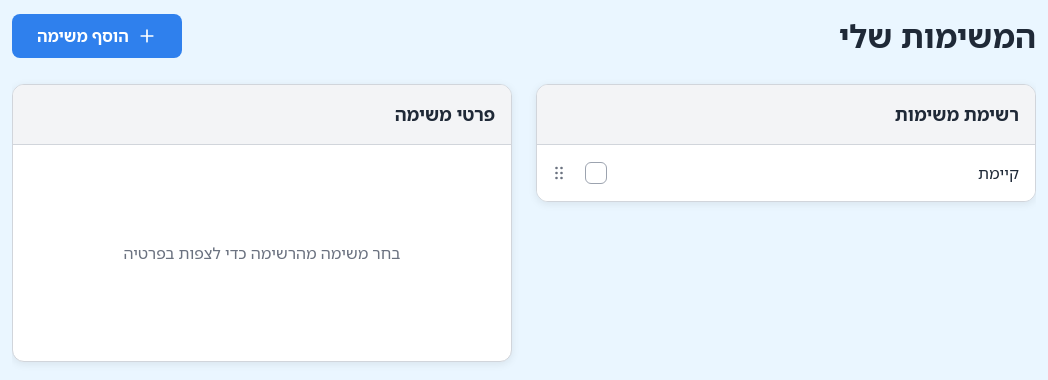
Test: HomePage – task status › a network failure restores the value with a connection message
Click the checkbox named "סימון השלמה: קיימת".
click(596, 173)  # box [585, 162, 607, 184]
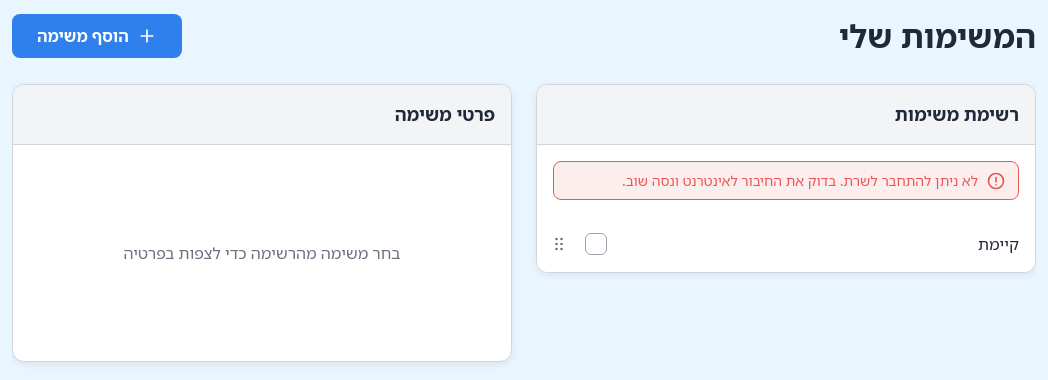
Expected: the checkbox named "סימון השלמה: קיימת" is not checked, [585, 233, 607, 255]
Result: the text "לא ניתן להתחבר לשרת. בדוק את החיבור לאינטרנט ונסה שוב." is shown at [566, 170, 978, 191]
